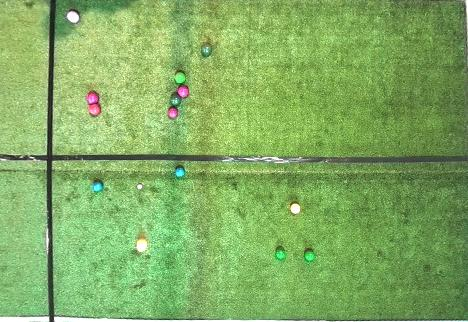blue: (174, 167, 185, 178), (93, 181, 103, 192)
green: (174, 72, 186, 83), (202, 44, 212, 57), (170, 95, 181, 106), (276, 247, 285, 260), (305, 250, 314, 261)
red: (67, 10, 80, 23), (89, 104, 101, 116), (87, 92, 99, 104), (178, 86, 189, 98), (168, 108, 178, 118)
vline: (1, 0, 57, 321), (462, 0, 467, 322)
white: (137, 184, 142, 189)
yellow: (137, 238, 147, 252), (290, 203, 300, 214)
